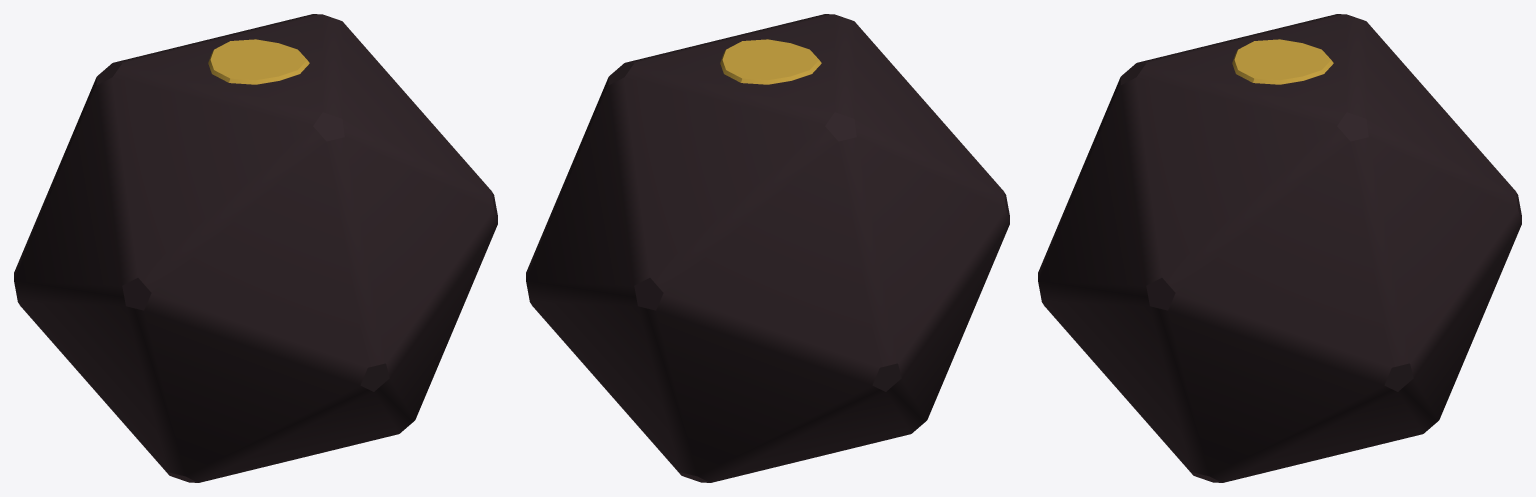
The model's file is verdict_d20_mobile.glb.
3 views of the same model, side by side, from view 1: azimuth 30°, elevation 25°; view 2: azimuth 150°, elevation 25°; view 3: azimuth 270°, elevation 25° (orthographic).
Parts seen in each view (by area): view 1: VerdictD20; view 2: VerdictD20; view 3: VerdictD20.
Part boxes in pixels (x1,y1,x2,y2): VerdictD20: [14, 14, 497, 482]; VerdictD20: [526, 14, 1009, 482]; VerdictD20: [1038, 14, 1521, 482].
Bounding box in the file's own units: 0.0786 × 0.0755 × 0.0886.
